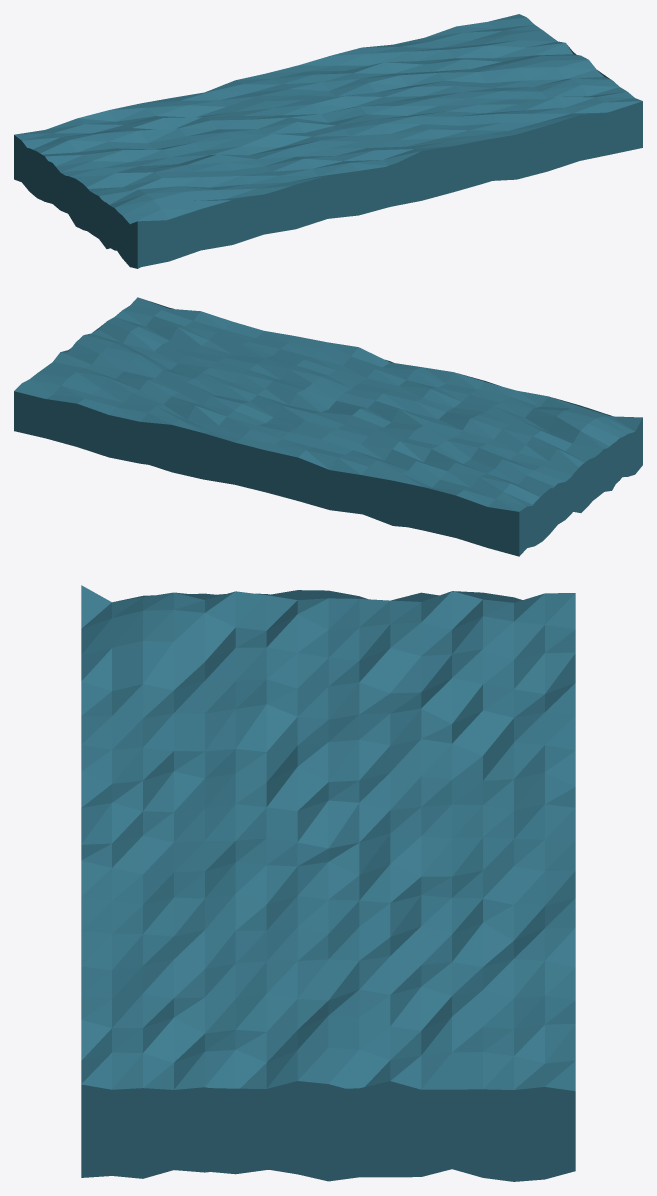
The model's file is water.glb.
3 renders of one model, top to bottom at view 1: azimuth 30°, elevation 25°; view 2: azimuth 150°, elevation 25°; view 3: azimuth 270°, elevation 25°, orthographic. The views are drawn at different scales.
Parts seen in each view (by area): view 1: Cube; view 2: Cube; view 3: Cube.
Boxes of the visible parts, bbox=[...] form: Cube: bbox=[14, 14, 642, 268]; Cube: bbox=[14, 297, 642, 556]; Cube: bbox=[81, 585, 575, 1181].
Size of the model in its own units: 10.32 by 1.08 by 4.37.
